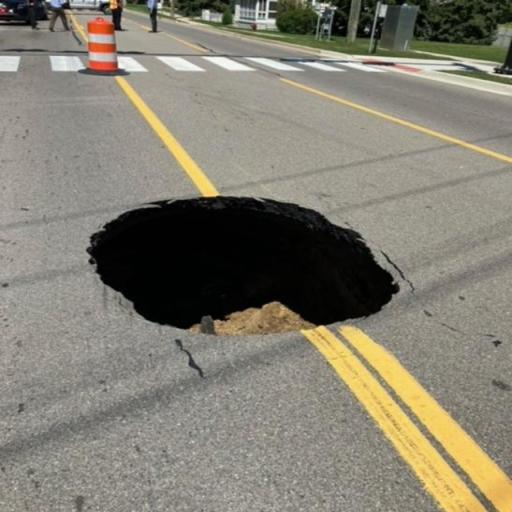Concentric_Crack: (88, 196, 399, 335)
